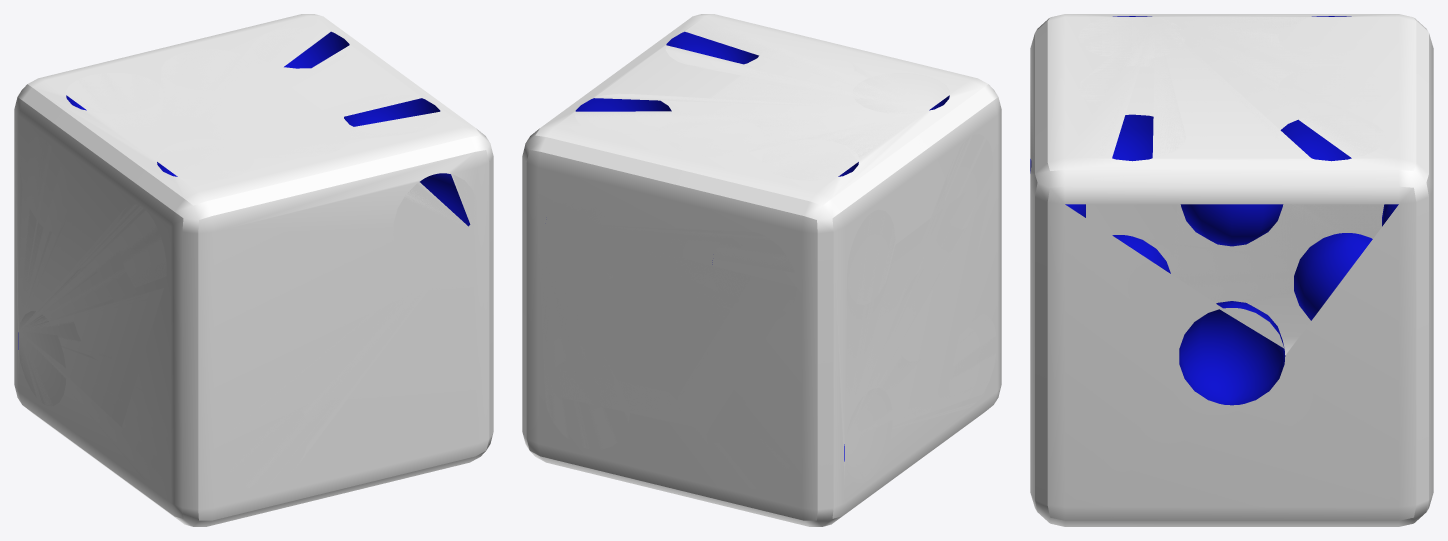
File: Dice.fbx
3 views of the same model, side by side, from view 1: azimuth 30°, elevation 25°; view 2: azimuth 150°, elevation 25°; view 3: azimuth 270°, elevation 25° (orthographic). The views are drawn at different scales.
Visible parts, largest first — view 1: pCube2; view 2: pCube2; view 3: pCube2.
Boxes of the visible parts, x1,y1,x2,y2 form: pCube2: [14, 14, 493, 526]; pCube2: [522, 14, 1001, 526]; pCube2: [1030, 14, 1433, 526].
Size of the model in its own units: 6 by 6 by 6.
Materials: 1 (1 with a texture image).
